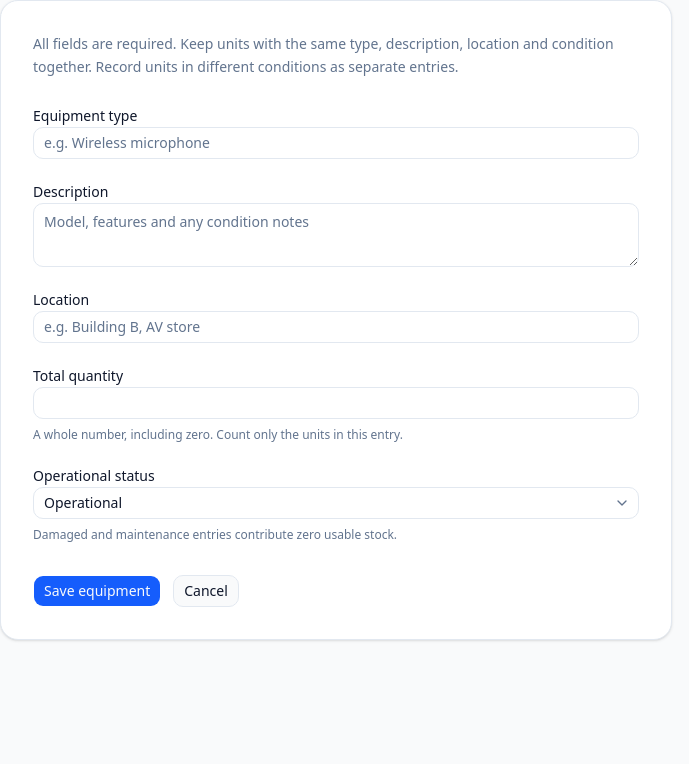
equipment keeps edits after a failed save and suppresses pending duplicates: {}
Type "Handheld" into the text box labelled "Description" at [336, 234], box [33, 202, 639, 266]
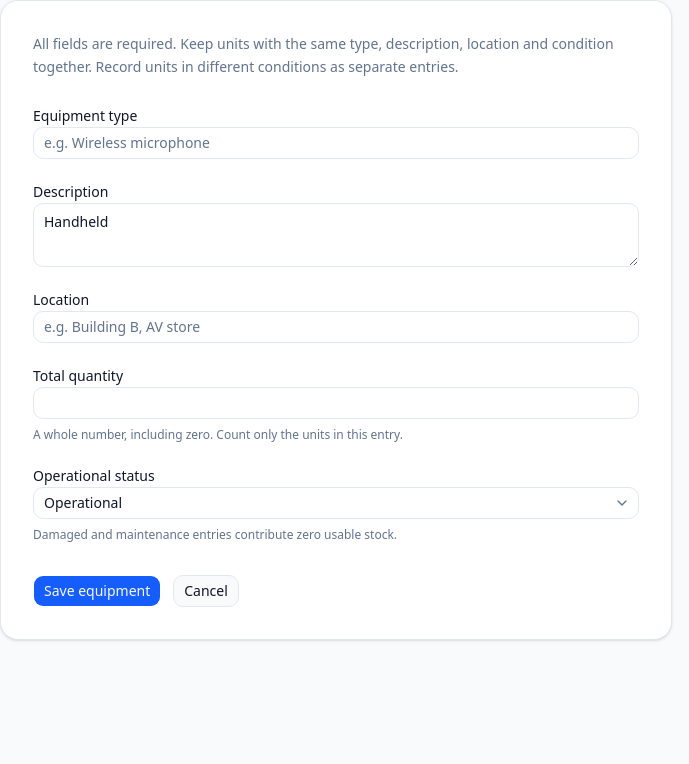
Submit the form
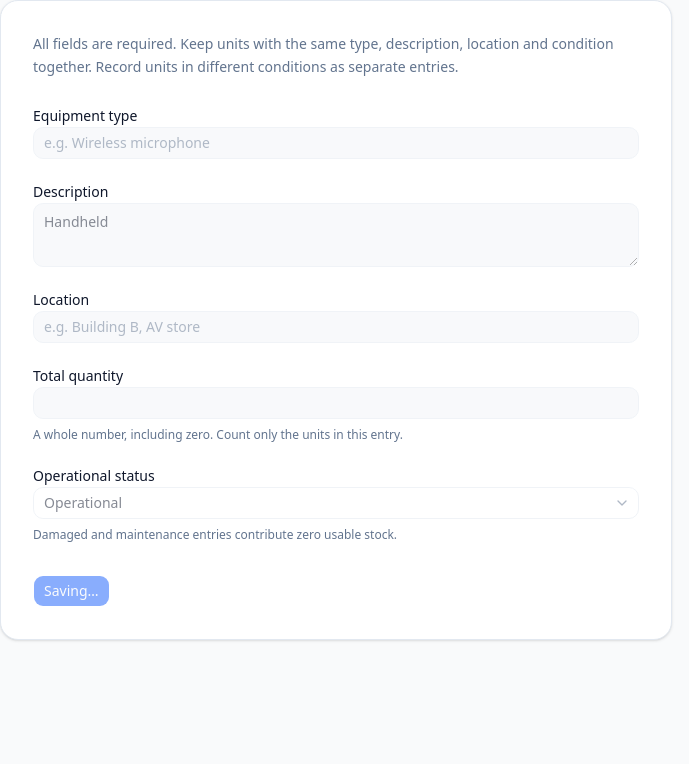
Submit the form
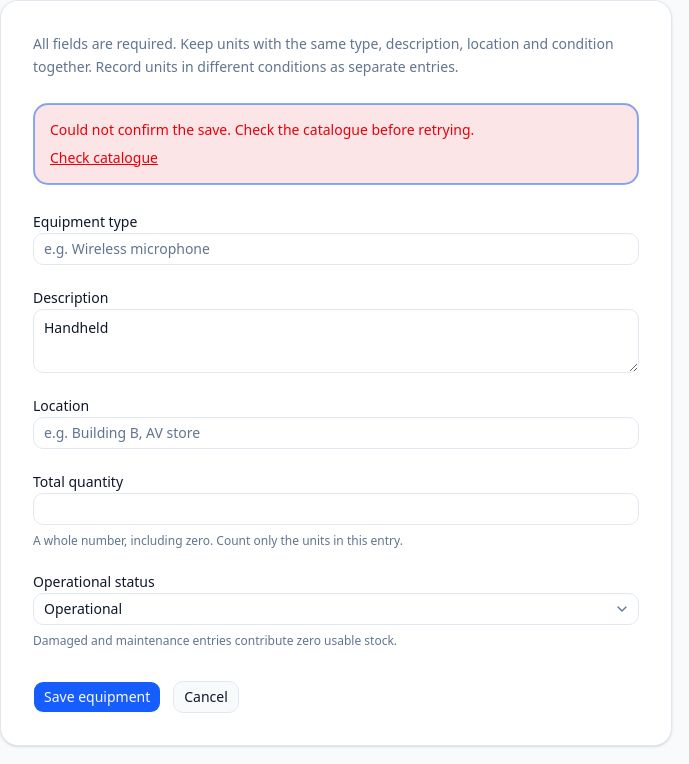
Check: the message is shown, box [33, 102, 639, 184]
Check: the link "Check catalogue" is shown, box [50, 148, 158, 166]
